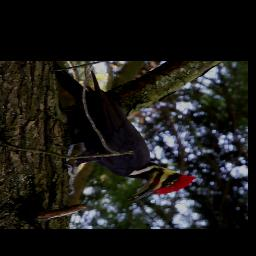Woodpecker: (50, 61, 198, 202)
